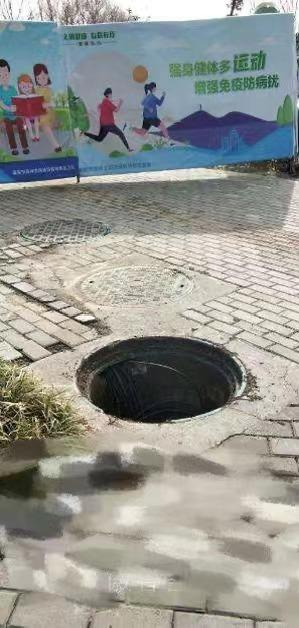wellcover: (64, 324, 268, 434), (66, 261, 198, 309), (19, 211, 121, 252)
